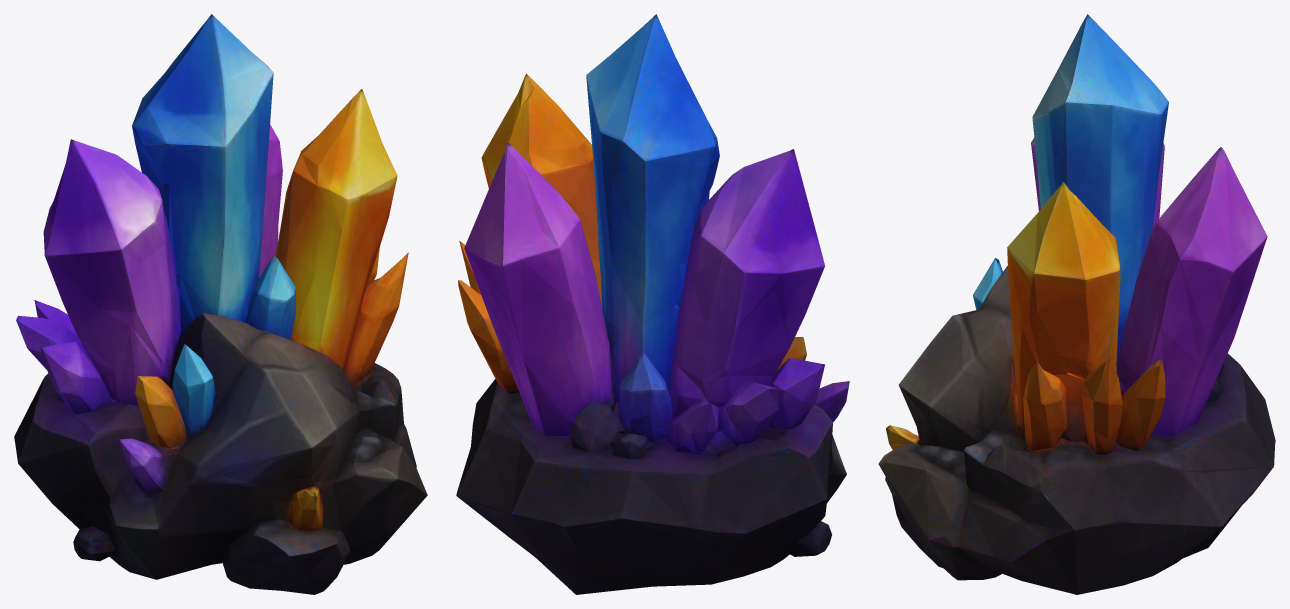
Rendered from d_mine_cristaux.glb.
The picture shows the model from 3 angles, left to right: view 1: azimuth 30°, elevation 25°; view 2: azimuth 150°, elevation 25°; view 3: azimuth 270°, elevation 25°; orthographic projection. The views are drawn at different scales.
Parts seen in each view (by area): view 1: geometry_0; view 2: geometry_0; view 3: geometry_0.
Boxes of the visible parts, x1,y1,x2,y2 form: geometry_0: (14,14,427,594); geometry_0: (456,14,849,594); geometry_0: (878,14,1275,594).
Bounding box in the file's own units: 0.7038 × 1 × 0.6694.
1 material, 1 textured.
